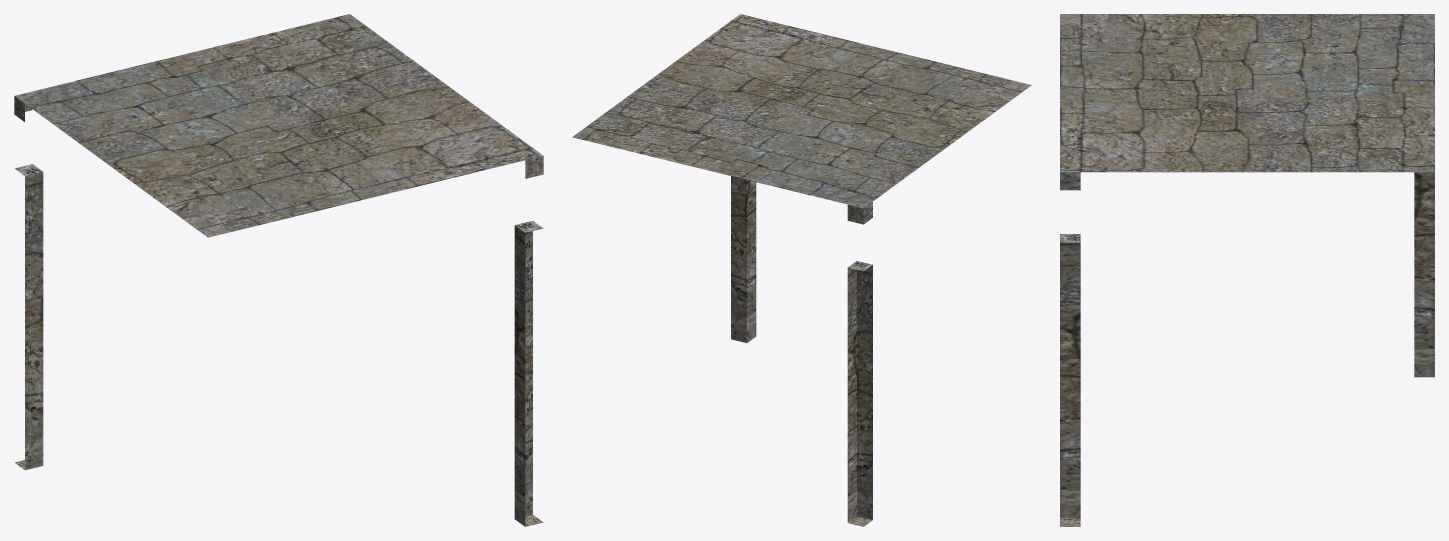
The model's file is Section23.FBX.
The picture shows the model from 3 angles, left to right: view 1: azimuth 30°, elevation 25°; view 2: azimuth 150°, elevation 25°; view 3: azimuth 270°, elevation 25°; orthographic projection. The views are drawn at different scales.
Visible parts, largest first — view 1: ClaimedCo100NW-SE_002; view 2: ClaimedCo100NW-SE_002; view 3: ClaimedCo100NW-SE_002.
Part boxes in pixels (x1=…): ClaimedCo100NW-SE_002: x1=14, y1=14, x2=543, y2=526; ClaimedCo100NW-SE_002: x1=572, y1=14, x2=1031, y2=526; ClaimedCo100NW-SE_002: x1=1060, y1=14, x2=1434, y2=526.
Bounding box in the file's own units: 100 × 104 × 100.
